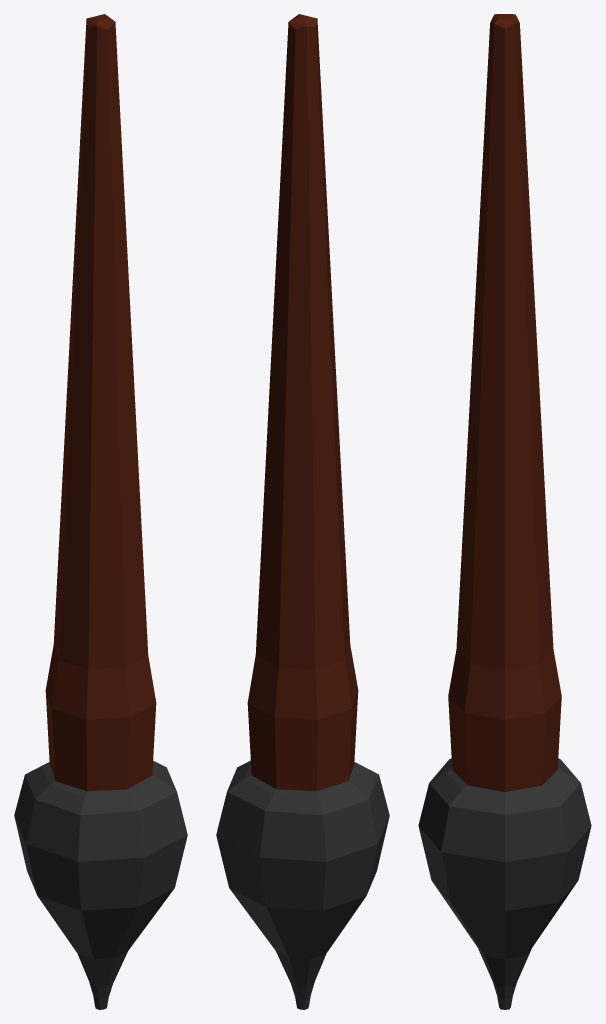
The model's file is paintbrush.glb.
3 renders of one model, left to right at view 1: azimuth 30°, elevation 25°; view 2: azimuth 150°, elevation 25°; view 3: azimuth 270°, elevation 25°, orthographic.
Visible parts, largest first — view 1: Cube.001; view 2: Cube.001; view 3: Cube.001.
Boxes of the visible parts, x1,y1,x2,y2 form: Cube.001: (14,14,187,1009); Cube.001: (216,14,389,1009); Cube.001: (418,14,591,1009).
Size of the model in its own units: 0.1817 by 1.15 by 0.1817.
